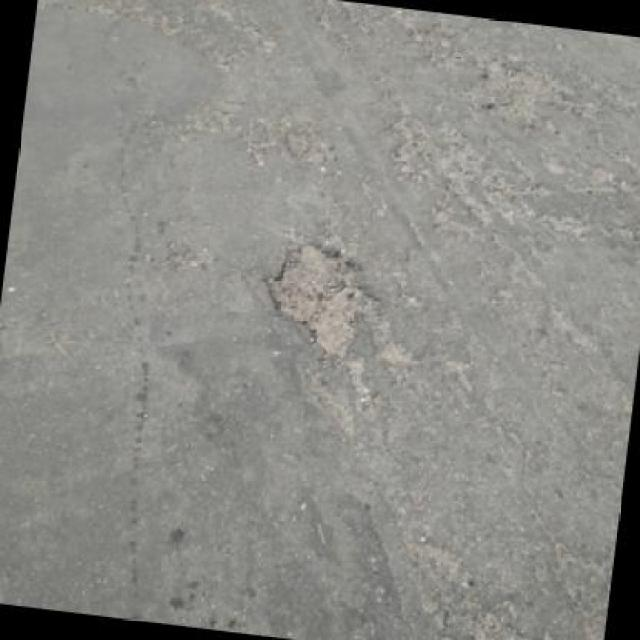pothole1: (262, 237, 391, 361), (475, 53, 562, 135)
